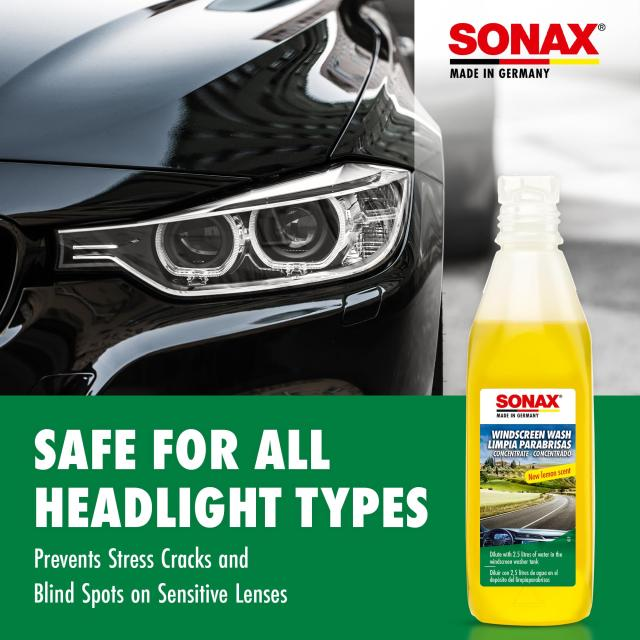winwinshield_washer: (462, 171, 594, 630)
